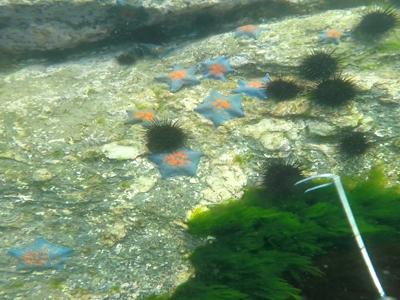urchin: (149, 121, 184, 153), (266, 165, 305, 193), (355, 7, 394, 35), (313, 80, 351, 107), (301, 50, 334, 76), (270, 80, 299, 101), (345, 136, 364, 155)
